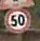limite 50: (4, 7, 31, 34)
